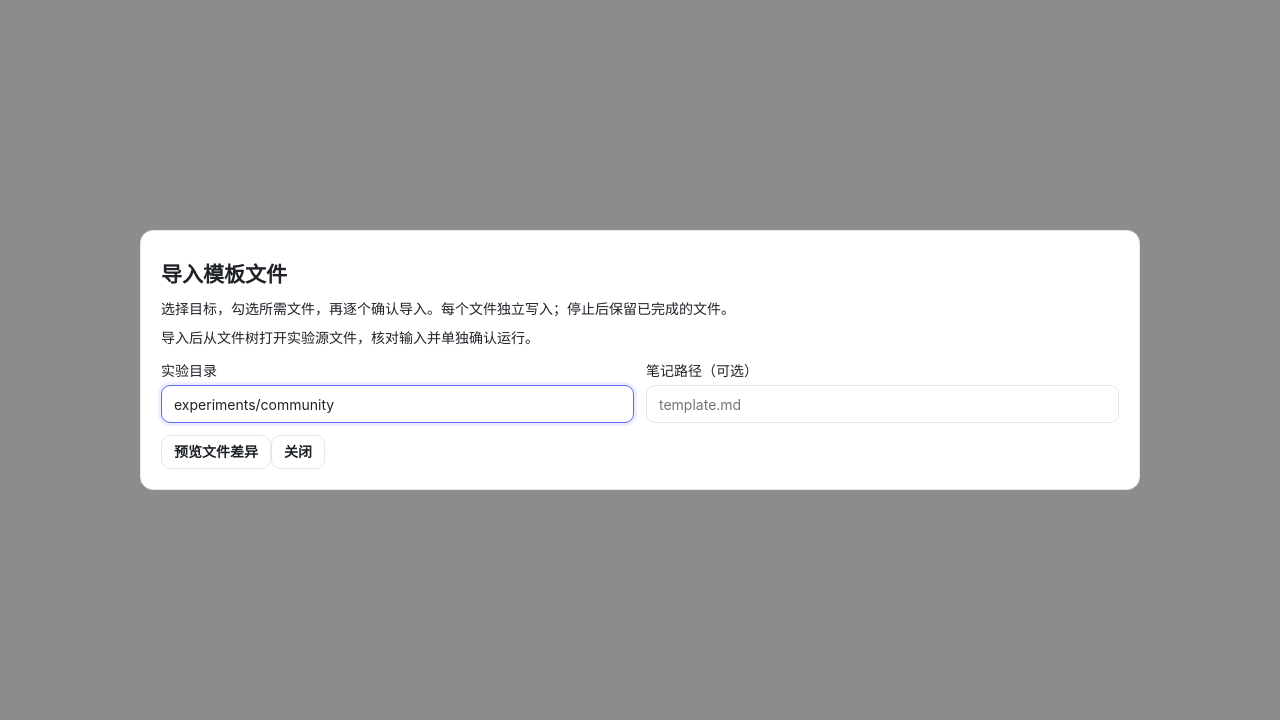
refuses a committed receipt with a different file identity and clears the stale review
The image size is (1280, 720).
Click the button "预览文件差异". click: (216, 452)
box: [161, 435, 271, 469]
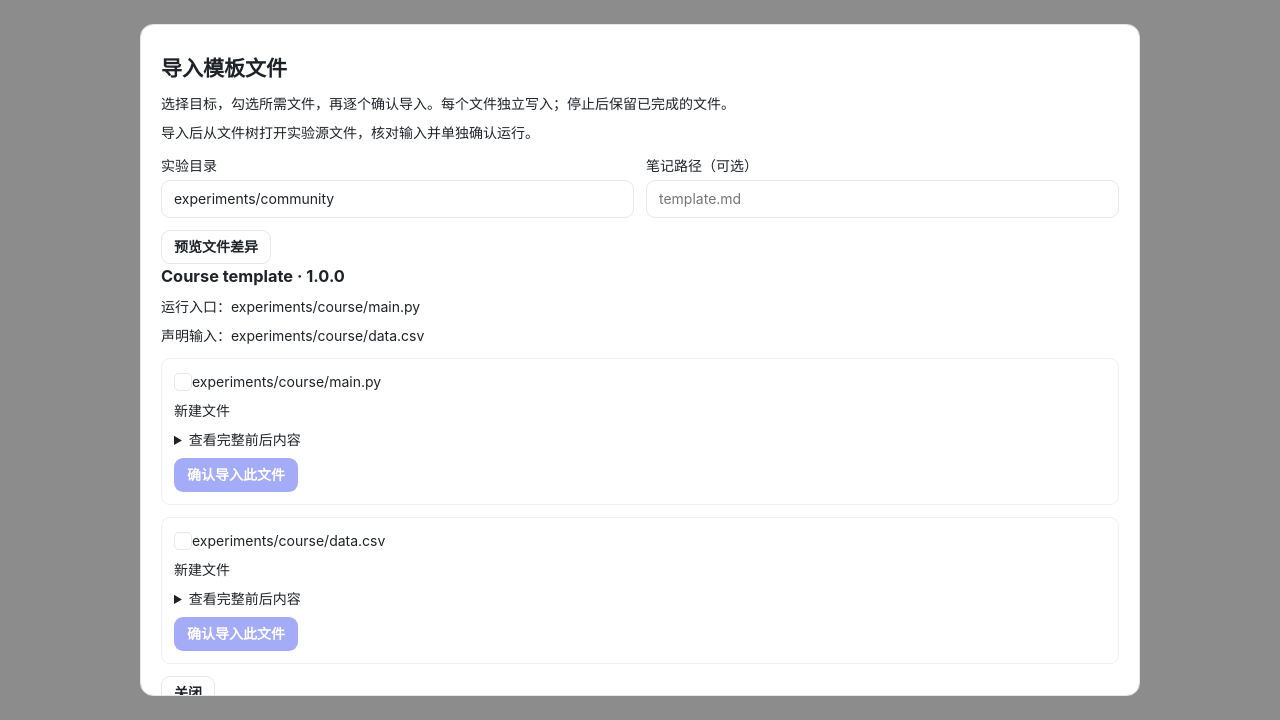
Click the checkbox labelled "experiments/course/main.py". click: (183, 382)
box: [174, 373, 192, 391]
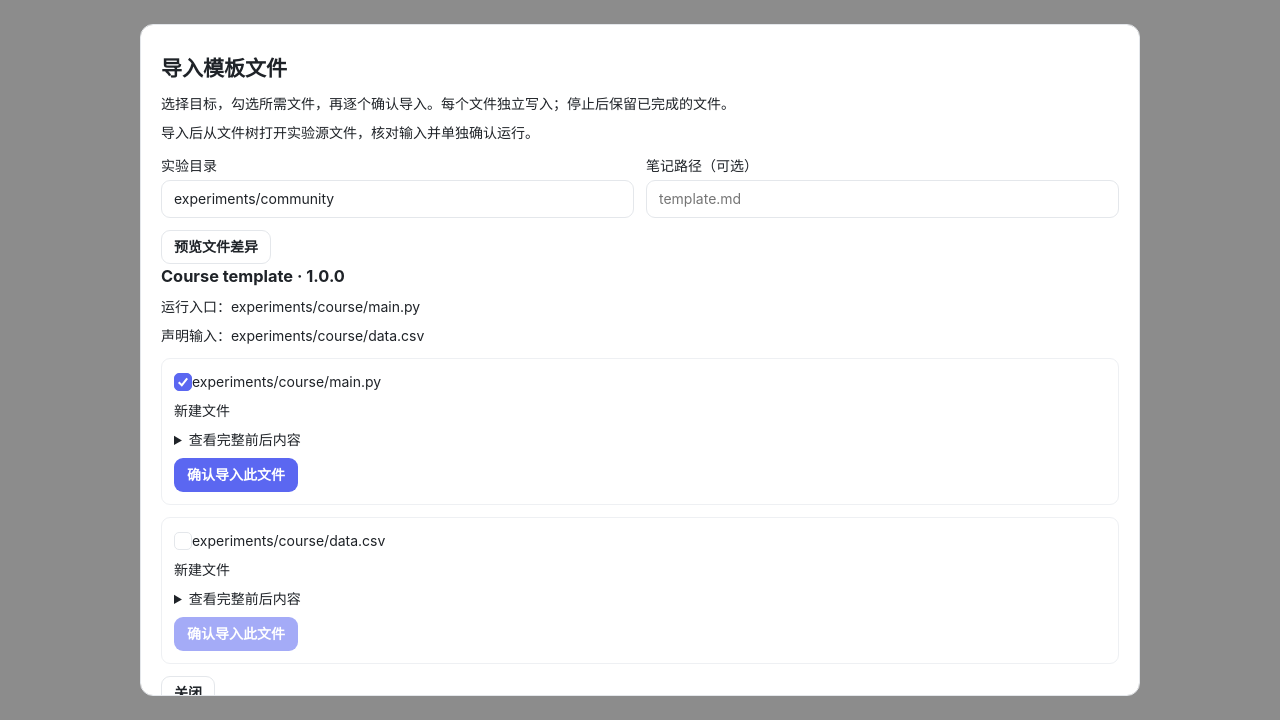
Click the 1st button "确认导入此文件". click: (236, 475)
box: [174, 458, 298, 492]
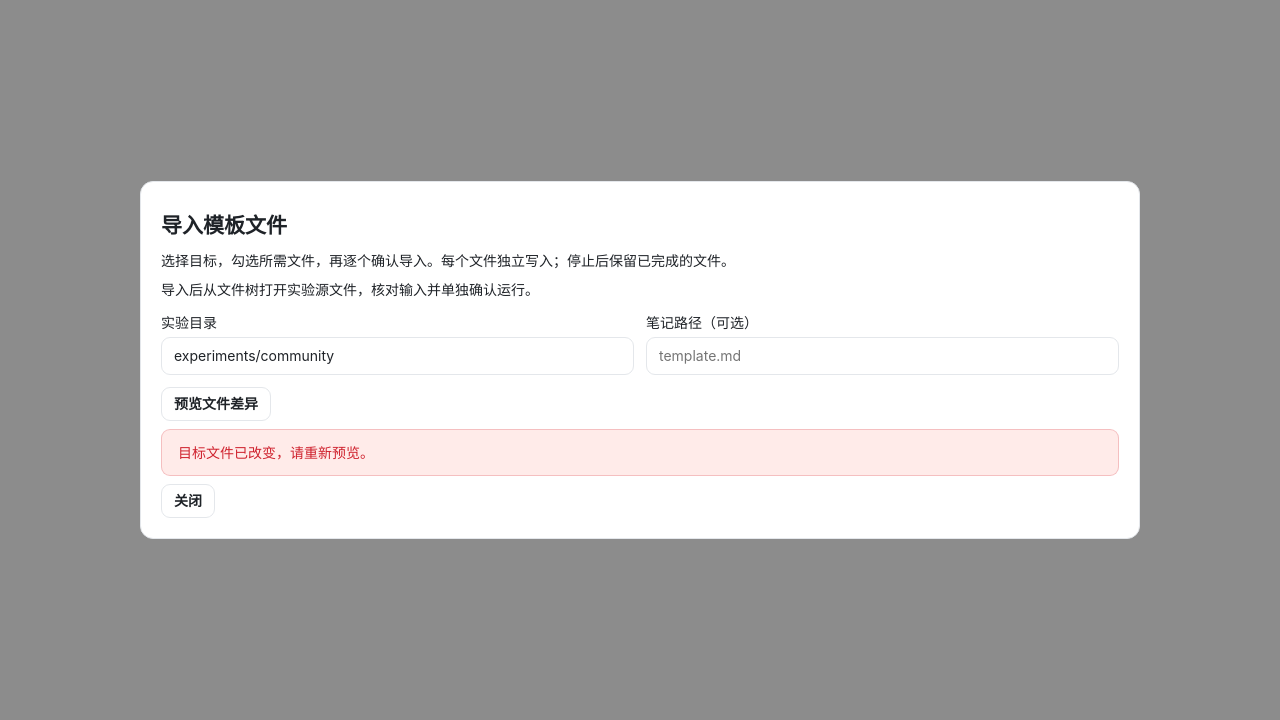
Result: the text "目标文件已改变" is shown at [178, 444, 374, 461]
